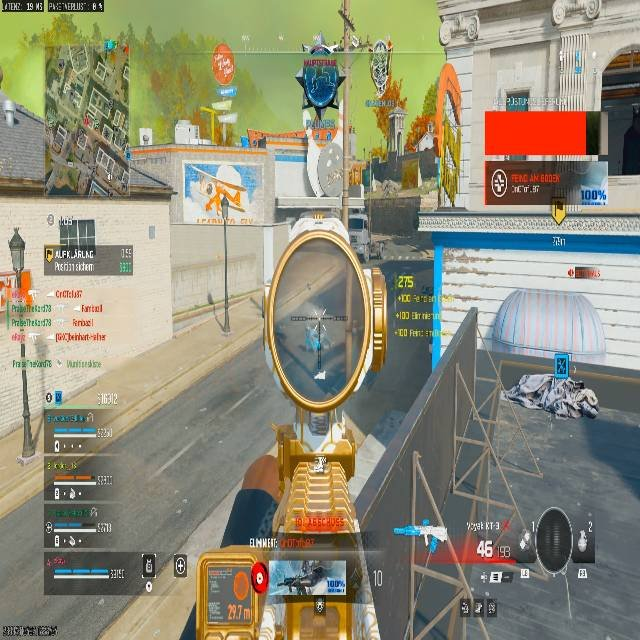player: (304, 325, 318, 350)
